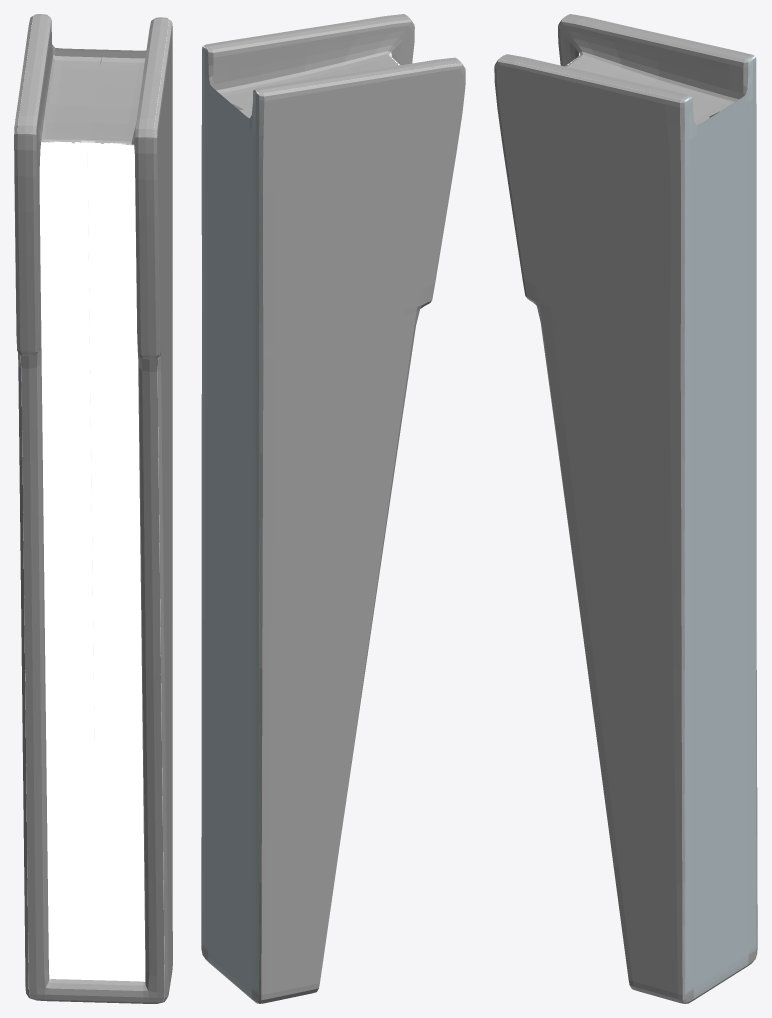
The picture shows the model from 3 angles, left to right: view 1: azimuth 30°, elevation 25°; view 2: azimuth 150°, elevation 25°; view 3: azimuth 270°, elevation 25°; orthographic projection. The views are drawn at different scales.
Visible parts, largest first — view 1: Wall Light.063; view 2: Wall Light.063; view 3: Wall Light.063.
Part boxes in pixels (x1,y1,x2,y2): Wall Light.063: (14, 14, 172, 1003); Wall Light.063: (201, 14, 465, 1003); Wall Light.063: (494, 14, 757, 1003).
Size of the model in its own units: 7.18 by 30.16 by 7.94.
1 material, 1 textured.
